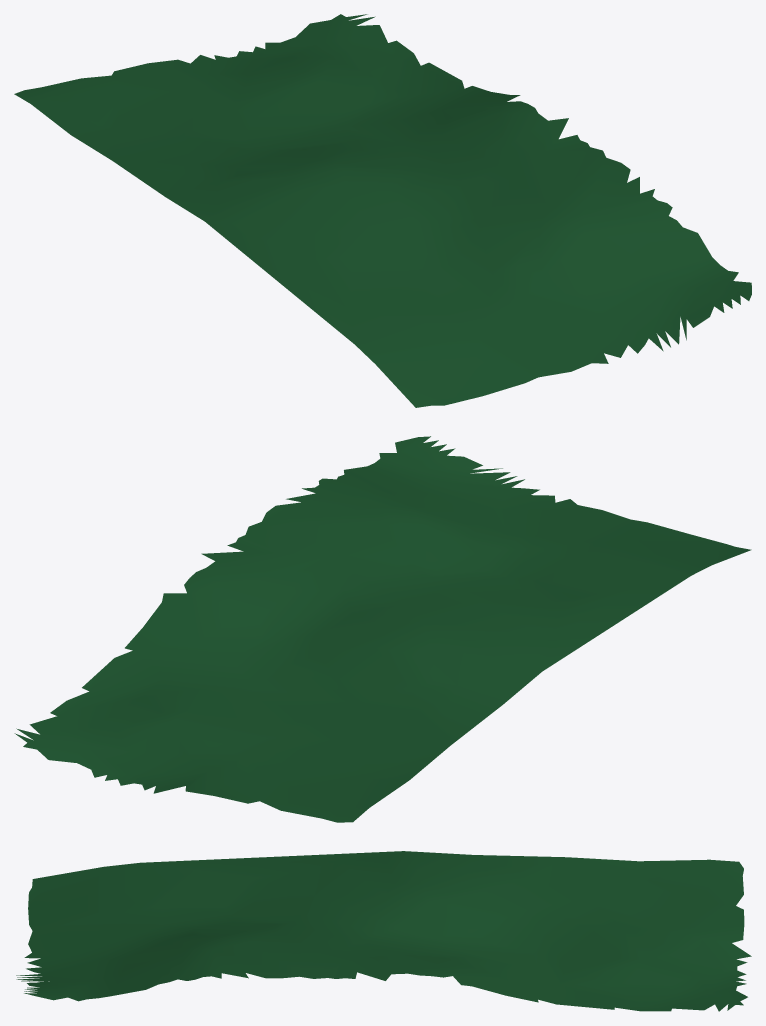
Rendered from payo_land_x4_ym2_lod2.glb.
The picture shows the model from 3 angles, top to bottom: view 1: azimuth 30°, elevation 25°; view 2: azimuth 150°, elevation 25°; view 3: azimuth 270°, elevation 25°; orthographic projection. The views are drawn at different scales.
Parts seen in each view (by area): view 1: payo_land_x4_ym2; view 2: payo_land_x4_ym2; view 3: payo_land_x4_ym2.
Boxes of the visible parts, bbox=[...] form: payo_land_x4_ym2: bbox=[14, 14, 751, 407]; payo_land_x4_ym2: bbox=[14, 436, 751, 822]; payo_land_x4_ym2: bbox=[16, 851, 751, 1011].
Size of the model in its own units: 130 by 20.72 by 266.
